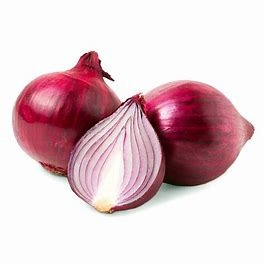Onion: (11, 48, 124, 179), (135, 77, 256, 188)
